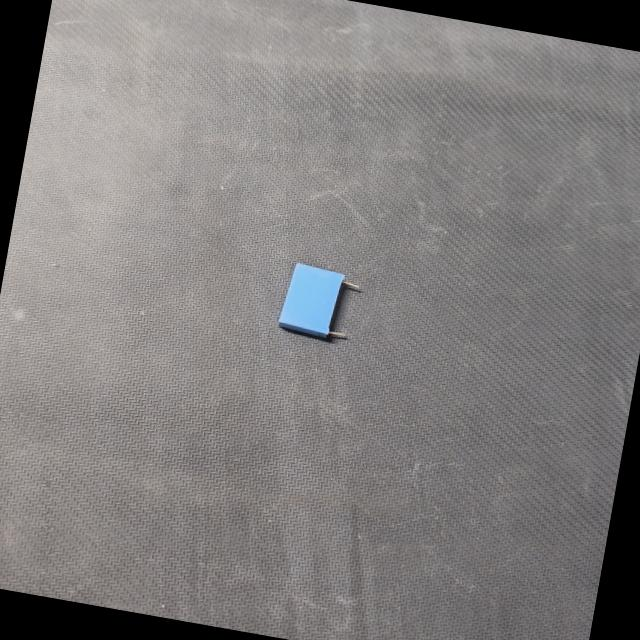capacitor: (267, 252, 371, 352)
